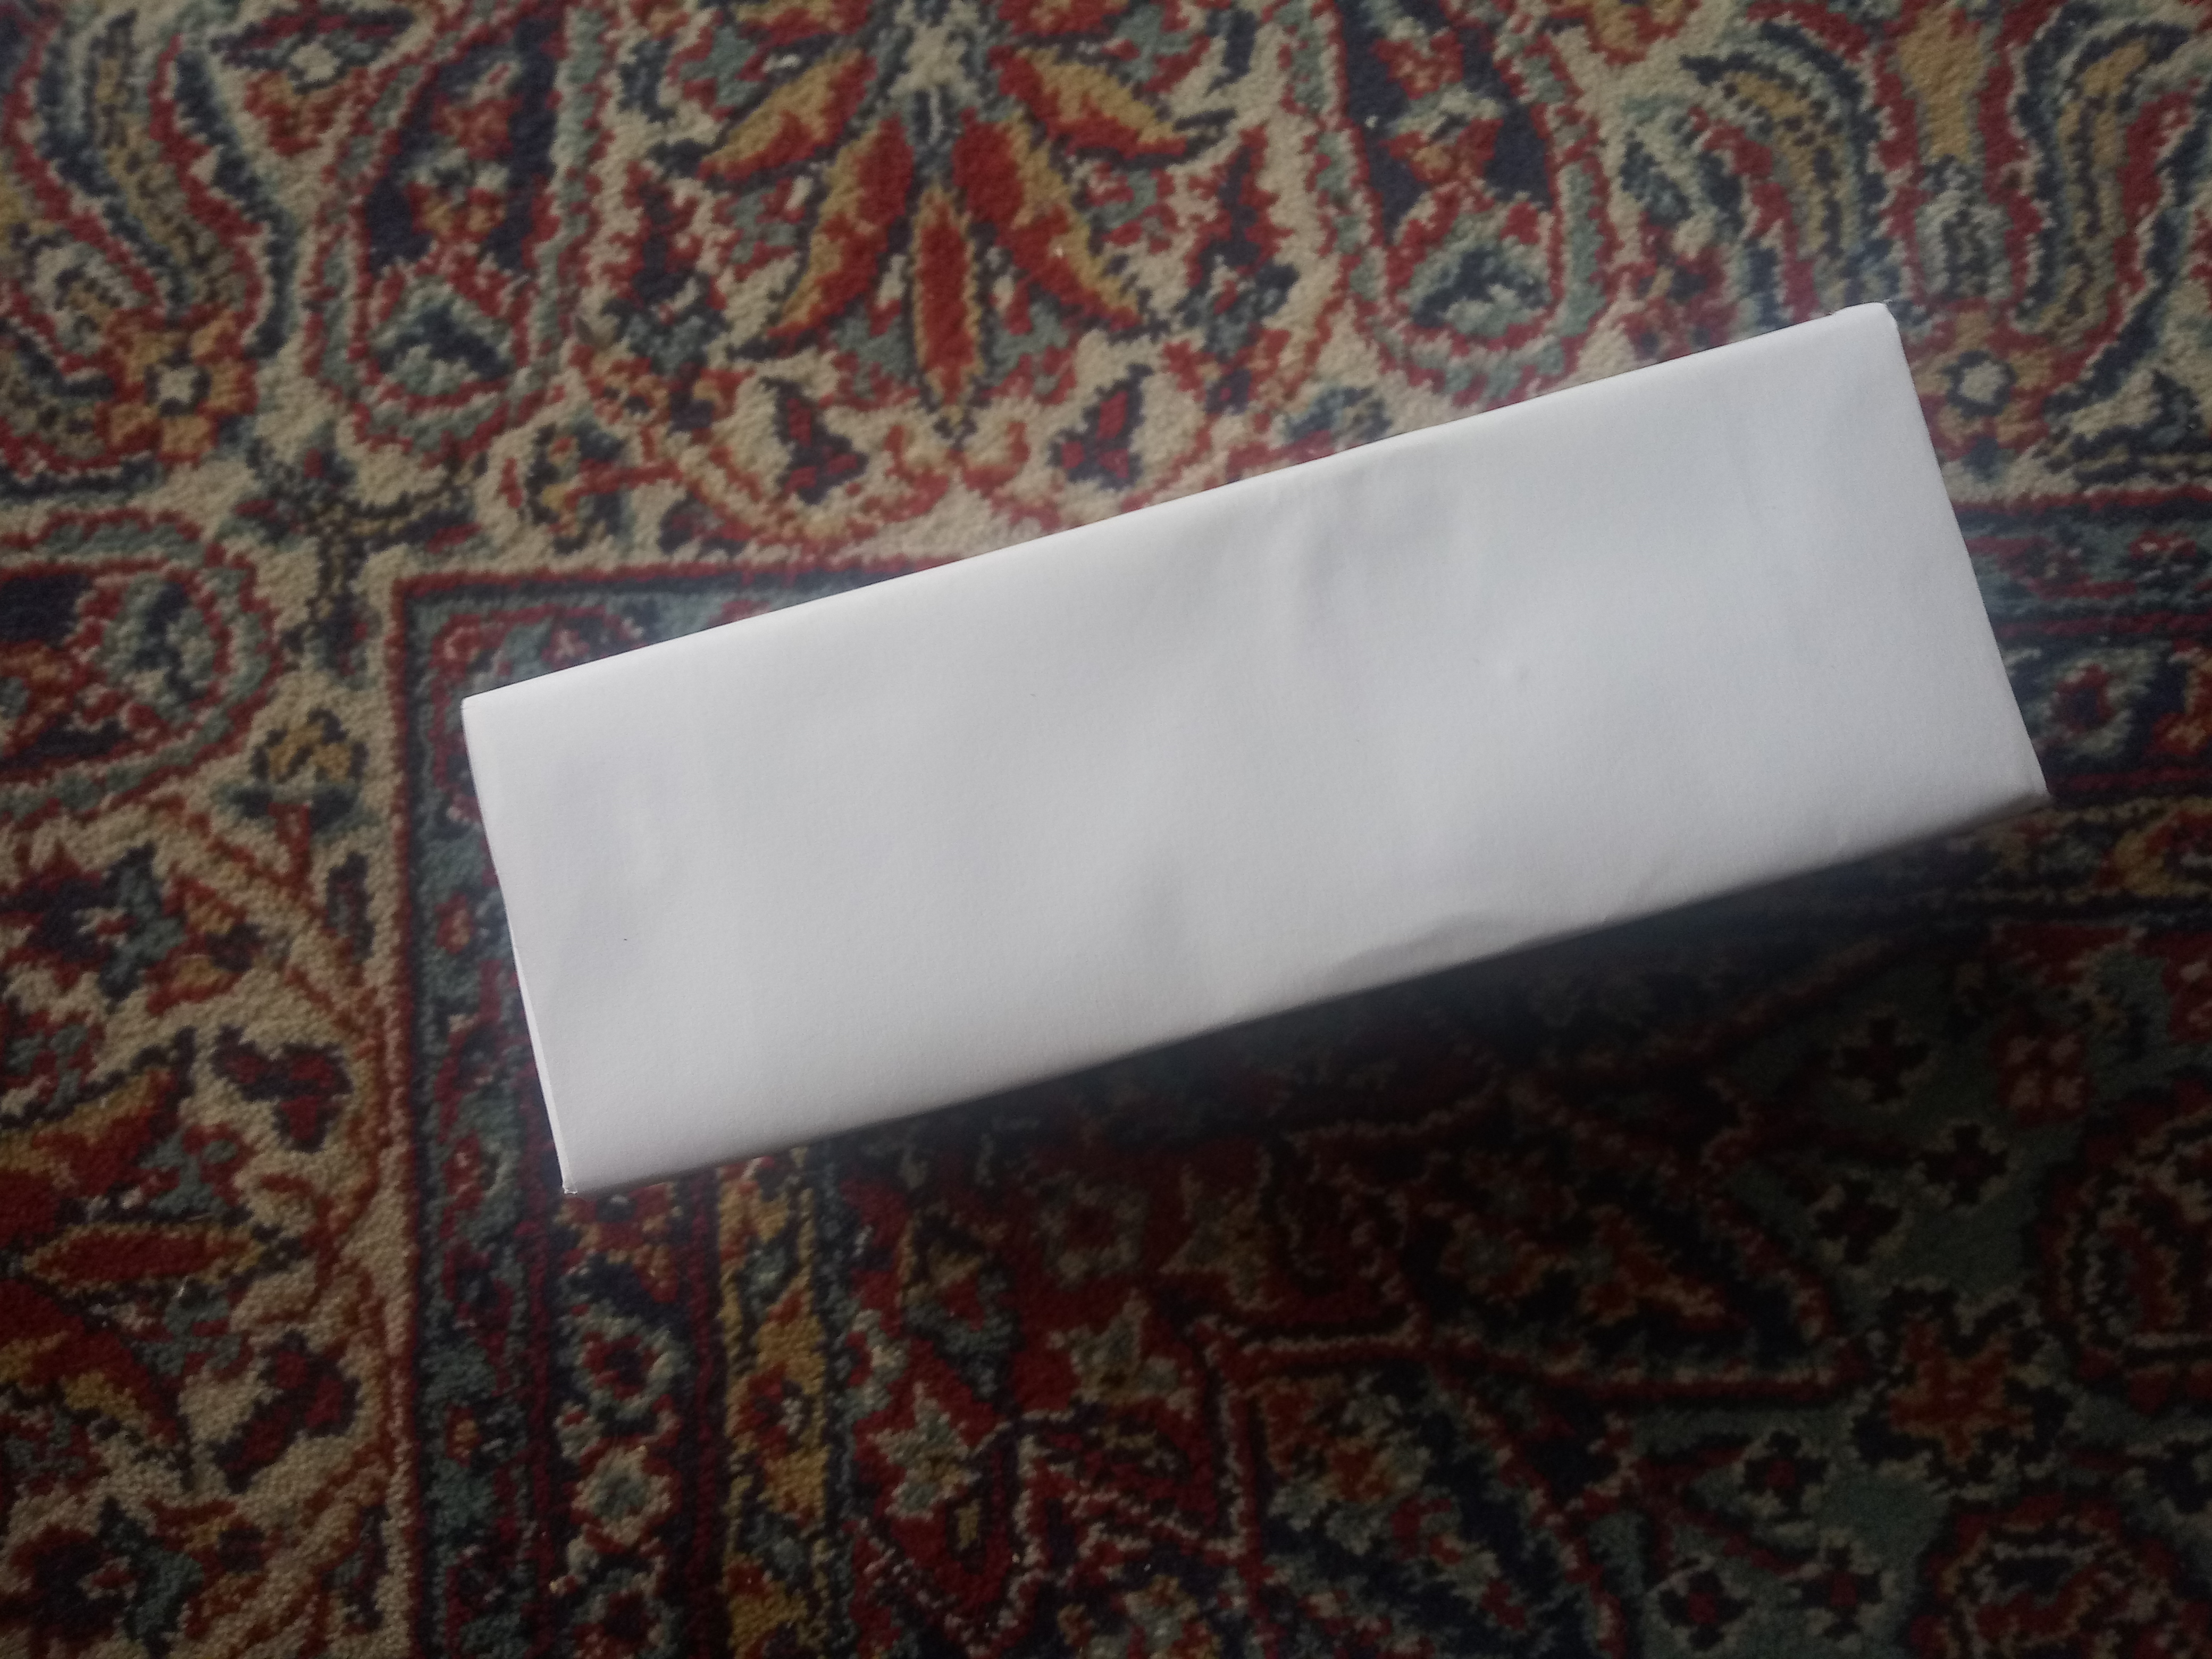white_box: (420, 260, 2104, 1293)
